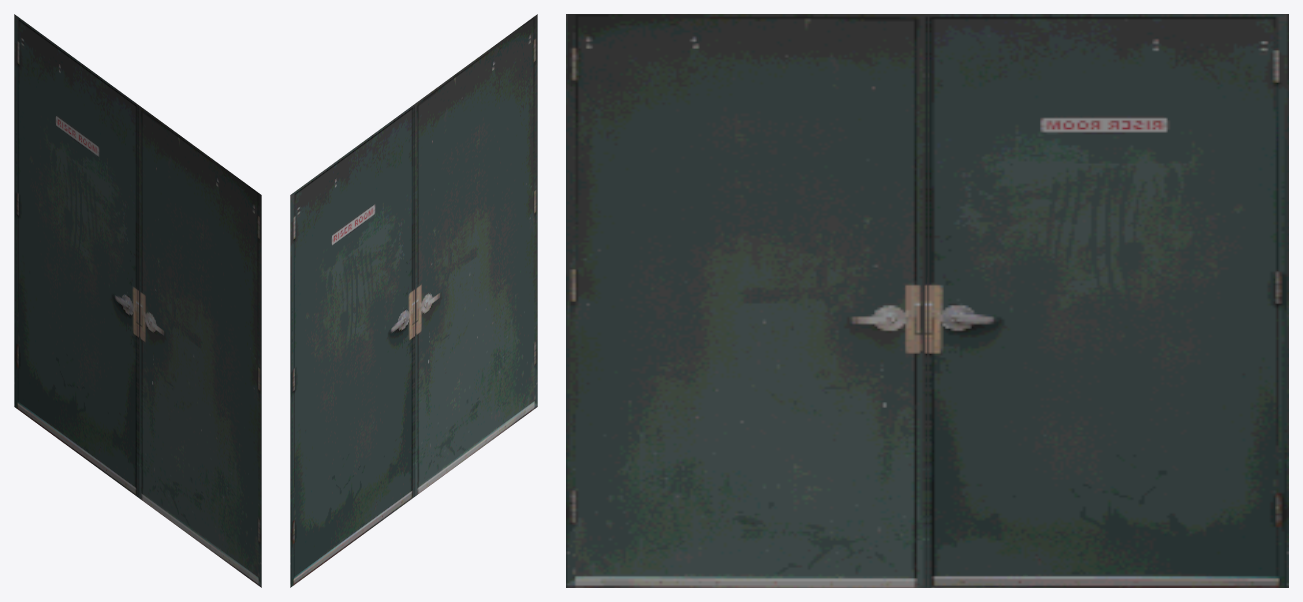
Rendered from warehousebrickb_id_8_doorsgreen_dm_0_lev1.glb.
3 renders of one model, left to right at view 1: azimuth 30°, elevation 25°; view 2: azimuth 150°, elevation 25°; view 3: azimuth 270°, elevation 25°, orthographic. The views are drawn at different scales.
Parts seen in each view (by area): view 1: warehousebrickb_id_8_doorsgreen_dm_0_lev1; view 2: warehousebrickb_id_8_doorsgreen_dm_0_lev1; view 3: warehousebrickb_id_8_doorsgreen_dm_0_lev1.
Part boxes in pixels (bbox=[...]): warehousebrickb_id_8_doorsgreen_dm_0_lev1: bbox=[14, 14, 261, 587]; warehousebrickb_id_8_doorsgreen_dm_0_lev1: bbox=[290, 14, 537, 587]; warehousebrickb_id_8_doorsgreen_dm_0_lev1: bbox=[566, 14, 1288, 587].
Size of the model in its own units: 0 by 1.37 by 1.56.
1 material, 1 textured.
